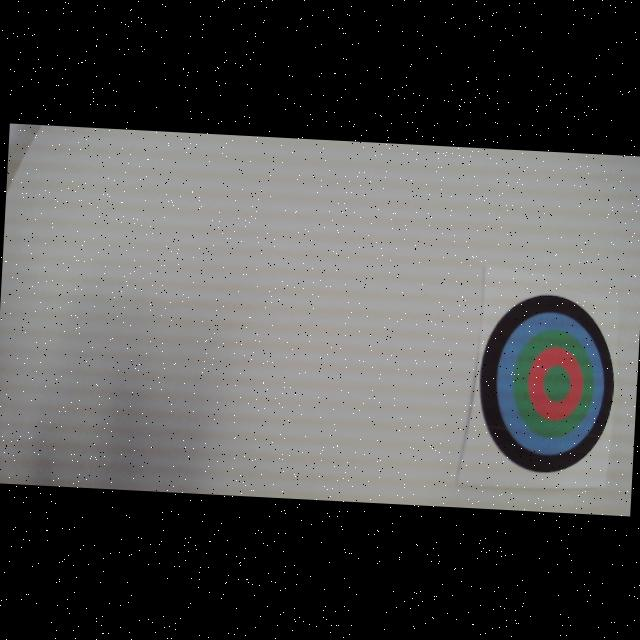COGNITIVE: (474, 288, 620, 476)
